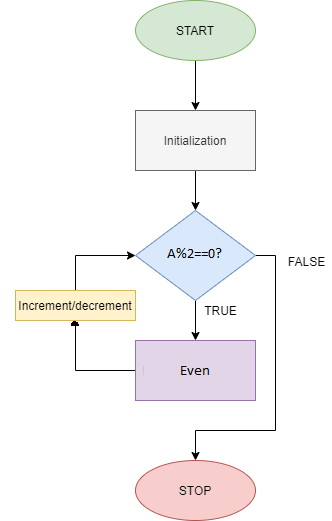arrow: (189, 251, 280, 460), (69, 321, 135, 373), (73, 250, 134, 286), (189, 61, 202, 111), (191, 171, 200, 212), (191, 300, 200, 339)
decision: (136, 212, 256, 300)
process: (132, 337, 259, 403), (132, 108, 258, 173), (12, 288, 138, 323)
terminator: (134, 1, 259, 64), (133, 459, 257, 521)
text: (16, 298, 131, 313), (159, 130, 228, 149), (162, 245, 223, 262), (284, 254, 326, 271), (174, 23, 216, 38), (176, 482, 212, 499), (201, 302, 239, 318), (178, 363, 212, 379)
